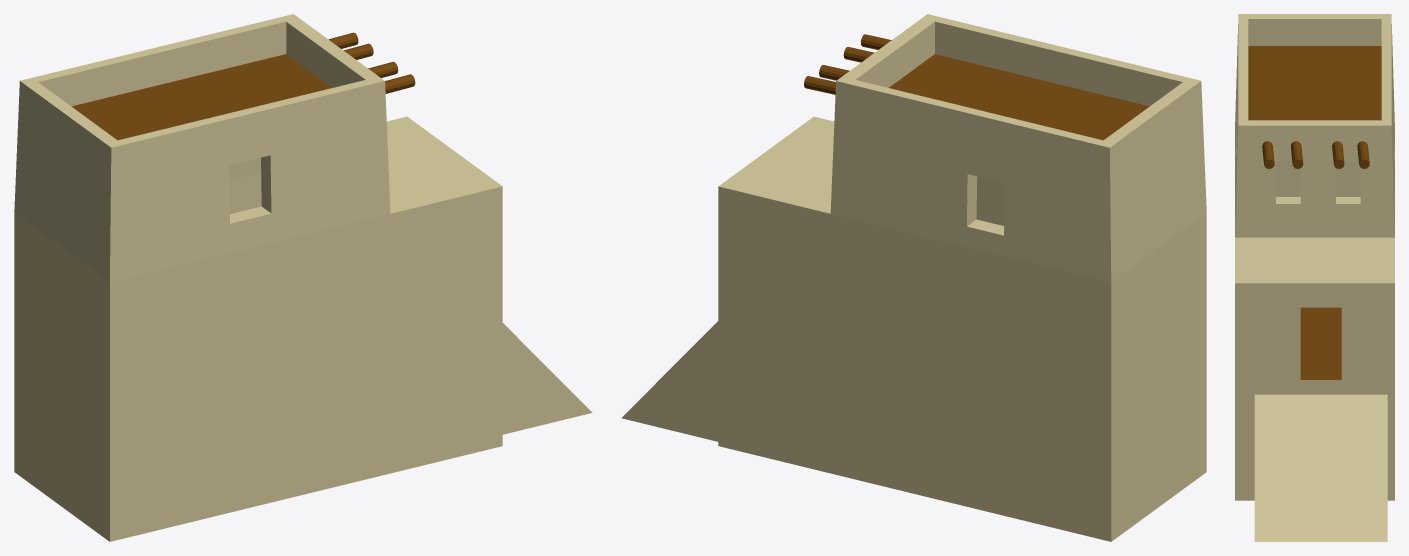
The model's file is shoe1.glb.
The picture shows the model from 3 angles, left to right: view 1: azimuth 30°, elevation 25°; view 2: azimuth 150°, elevation 25°; view 3: azimuth 270°, elevation 25°; orthographic projection. The views are drawn at different scales.
Visible parts, largest first — view 1: shoe; view 2: shoe; view 3: shoe.
Boxes of the visible parts, bbox=[...] form: shoe: bbox=[14, 14, 592, 541]; shoe: bbox=[621, 14, 1206, 541]; shoe: bbox=[1235, 14, 1394, 541].
Size of the model in its own units: 7.17 by 5.43 by 2.4.
